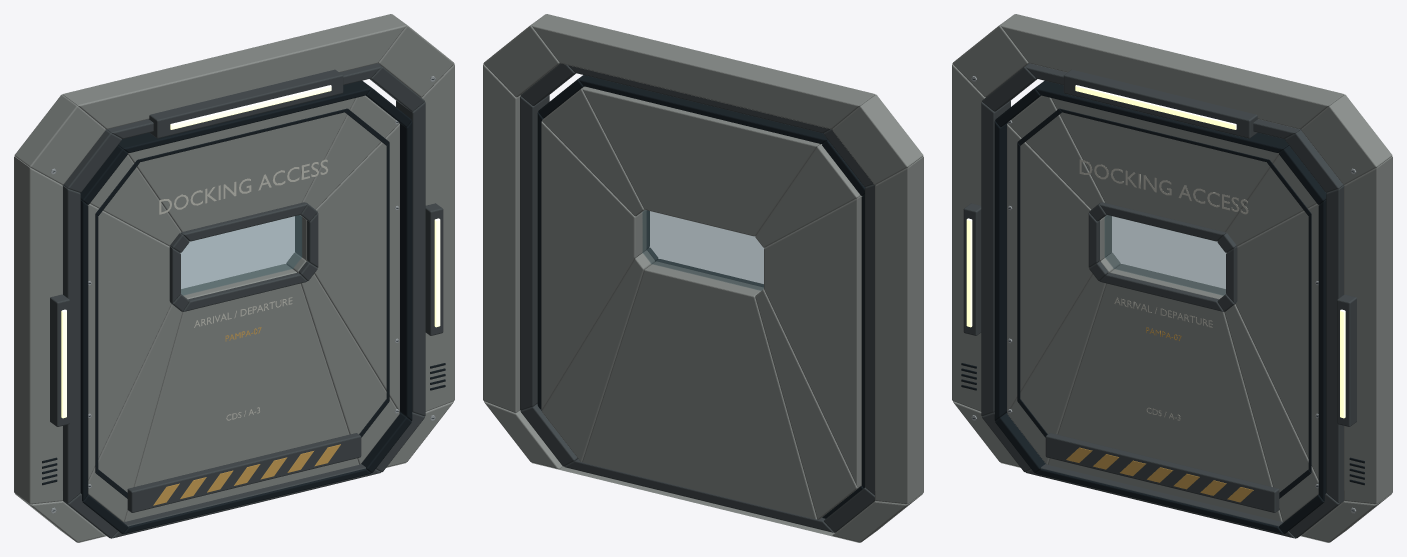
Rendered from cruz-del-sur-docking-door.glb.
3 views of the same model, side by side, from view 1: azimuth 30°, elevation 25°; view 2: azimuth 150°, elevation 25°; view 3: azimuth 330°, elevation 25° (orthographic).
Visible parts, largest first — view 1: DOCK_CDS_hardware_Warm_grey_alloy.001, DOCK_CDS_hardware_Graphite.001, DOCK_CDS_hardware_Rubber_seals.001, DOCK_CDS_hardware_Inspection_glass.001, DOCK_CDS_hardware_Amber_diffuser.001, DOCK_CDS_hardware_Safety_ochre.001, DOCK_CDS_hardware_Off_white_enamel.001; view 2: DOCK_CDS_hardware_Warm_grey_alloy.001, DOCK_CDS_hardware_Graphite.001, DOCK_CDS_hardware_Rubber_seals.001, DOCK_CDS_hardware_Inspection_glass.001; view 3: DOCK_CDS_hardware_Warm_grey_alloy.001, DOCK_CDS_hardware_Graphite.001, DOCK_CDS_hardware_Rubber_seals.001, DOCK_CDS_hardware_Inspection_glass.001, DOCK_CDS_hardware_Amber_diffuser.001, DOCK_CDS_hardware_Safety_ochre.001, DOCK_CDS_hardware_Off_white_enamel.001.
Part boxes in pixels (box(x1,y1,x2,y2)): DOCK_CDS_hardware_Warm_grey_alloy.001: box(14, 14, 454, 542); DOCK_CDS_hardware_Graphite.001: box(50, 63, 443, 538); DOCK_CDS_hardware_Rubber_seals.001: box(42, 78, 445, 533); DOCK_CDS_hardware_Inspection_glass.001: box(180, 215, 302, 295); DOCK_CDS_hardware_Amber_diffuser.001: box(61, 85, 440, 418); DOCK_CDS_hardware_Safety_ochre.001: box(153, 327, 340, 505); DOCK_CDS_hardware_Off_white_enamel.001: box(159, 159, 327, 420); DOCK_CDS_hardware_Warm_grey_alloy.001: box(483, 14, 923, 542); DOCK_CDS_hardware_Graphite.001: box(520, 63, 875, 532); DOCK_CDS_hardware_Rubber_seals.001: box(537, 75, 865, 518); DOCK_CDS_hardware_Inspection_glass.001: box(642, 210, 763, 290); DOCK_CDS_hardware_Warm_grey_alloy.001: box(952, 14, 1392, 542); DOCK_CDS_hardware_Graphite.001: box(963, 63, 1356, 538); DOCK_CDS_hardware_Rubber_seals.001: box(961, 78, 1364, 533); DOCK_CDS_hardware_Inspection_glass.001: box(1104, 215, 1226, 295); DOCK_CDS_hardware_Amber_diffuser.001: box(966, 85, 1345, 418); DOCK_CDS_hardware_Safety_ochre.001: box(1066, 327, 1253, 502); DOCK_CDS_hardware_Off_white_enamel.001: box(1079, 159, 1248, 420).
Bounding box in the file's own units: 2.85 × 2.8 × 0.294.
